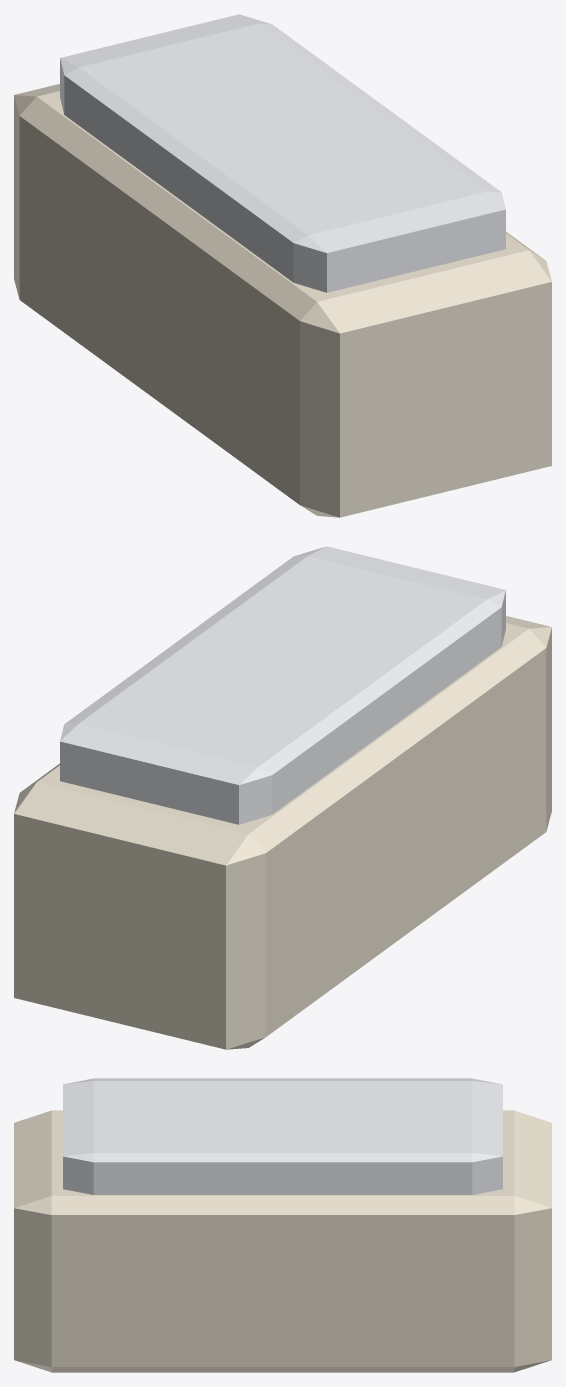
The model's file is b17_running_shoe.glb.
The picture shows the model from 3 angles, top to bottom: view 1: azimuth 30°, elevation 25°; view 2: azimuth 150°, elevation 25°; view 3: azimuth 270°, elevation 25°; orthographic projection. The views are drawn at different scales.
Visible parts, largest first — view 1: b17_running_shoe; view 2: b17_running_shoe; view 3: b17_running_shoe.
Boxes of the visible parts, x1,y1,x2,y2 form: b17_running_shoe: (14, 14, 551, 517); b17_running_shoe: (14, 546, 551, 1049); b17_running_shoe: (14, 1078, 551, 1372).
Bounding box in the file's own units: 0.124 × 0.124 × 0.284.
